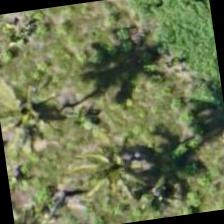Kelapa_Sawit: (0, 59, 70, 158)
